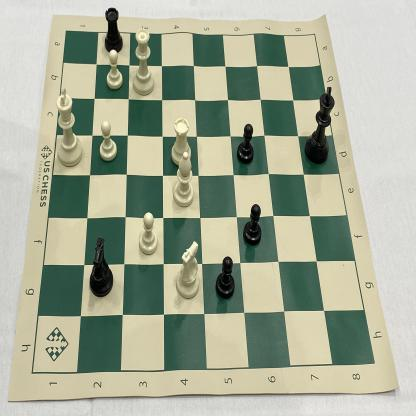black-king: (302, 82, 339, 168)
black-knight: (88, 236, 116, 301)
black-pawn: (241, 199, 264, 251), (214, 252, 237, 301), (235, 122, 256, 170)
black-rook: (101, 2, 125, 55)
white-bishop: (172, 150, 197, 208)
white-king: (53, 85, 85, 170)
white-knight: (174, 238, 202, 302)
white-pawn: (135, 208, 160, 258), (96, 115, 119, 165), (103, 47, 127, 92)
white-queen: (131, 26, 158, 100)
white-rook: (169, 115, 194, 168)
